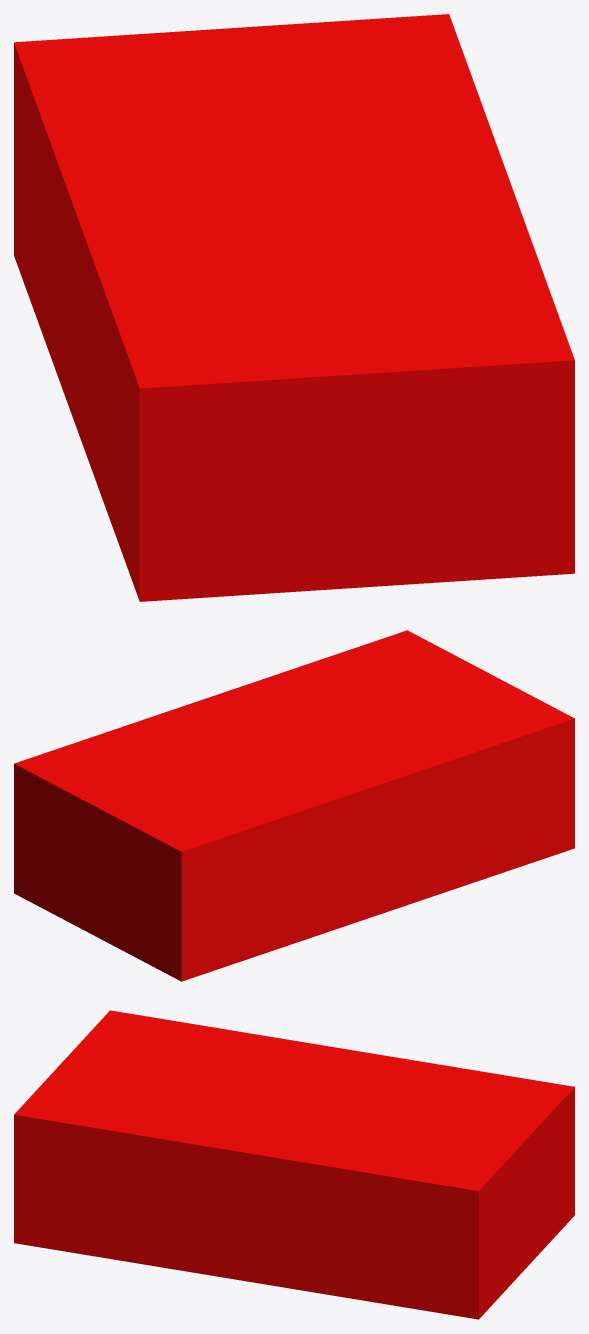
The model's file is BosquesdelasVictorias_Dummys_INV_Mz9.fbx.
3 renders of one model, top to bottom at view 1: azimuth 30°, elevation 25°; view 2: azimuth 150°, elevation 25°; view 3: azimuth 270°, elevation 25°, orthographic. The views are drawn at different scales.
Parts seen in each view (by area): view 1: Cube__12_; view 2: Cube__12_; view 3: Cube__12_.
Part boxes in pixels (x1,y1,x2,y2): Cube__12_: (14, 14, 574, 601); Cube__12_: (14, 630, 574, 981); Cube__12_: (14, 1010, 574, 1319).
Bounding box in the file's own units: 2911 × 964 × 3816.
